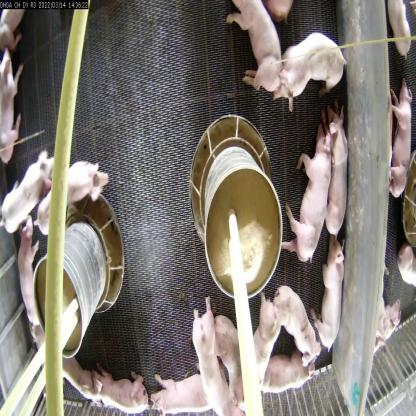Pig: (283, 125, 329, 262), (275, 25, 342, 106), (229, 0, 283, 98), (3, 144, 50, 234), (324, 108, 356, 239), (44, 158, 102, 219), (195, 298, 226, 410), (13, 222, 45, 330), (258, 348, 314, 407), (318, 244, 346, 360), (151, 360, 208, 415), (272, 281, 312, 359), (96, 356, 146, 416), (247, 287, 274, 379), (218, 313, 246, 393), (2, 44, 20, 148), (51, 344, 90, 392)
